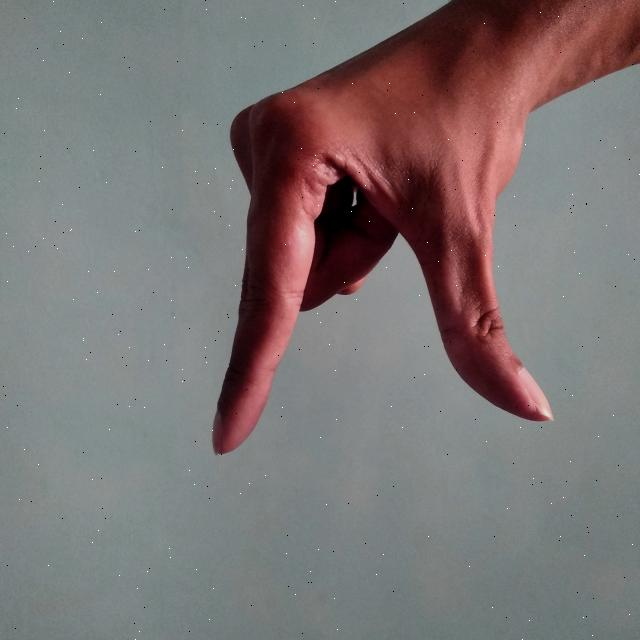Q: (203, 0, 640, 471)
